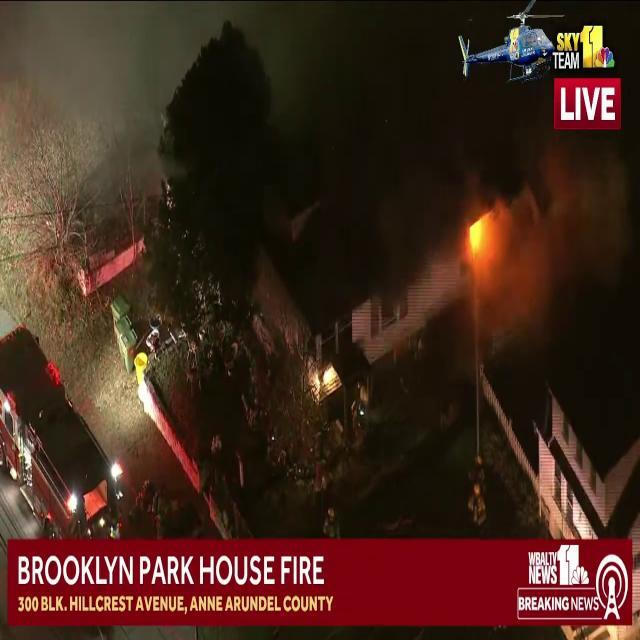Fire: (462, 205, 514, 286), (311, 354, 338, 404)
Smoke: (480, 120, 640, 350)
